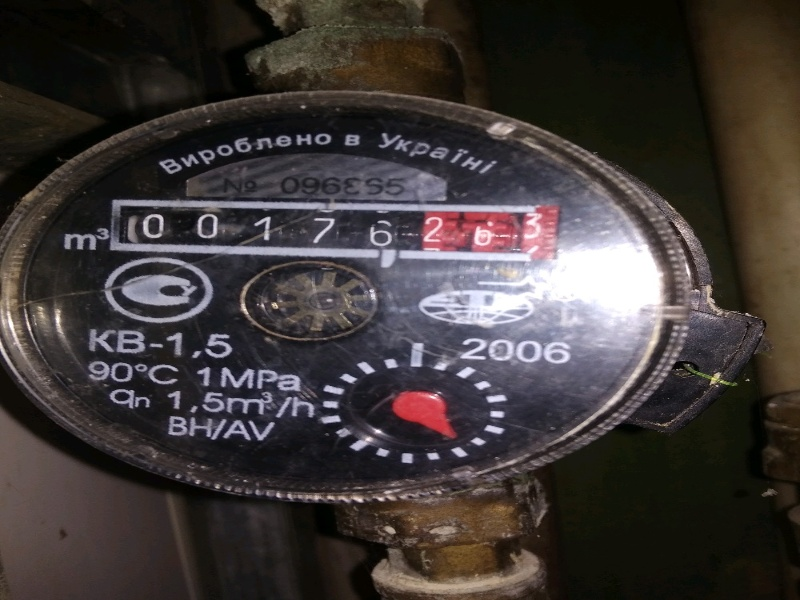meter: (106, 197, 567, 263)
